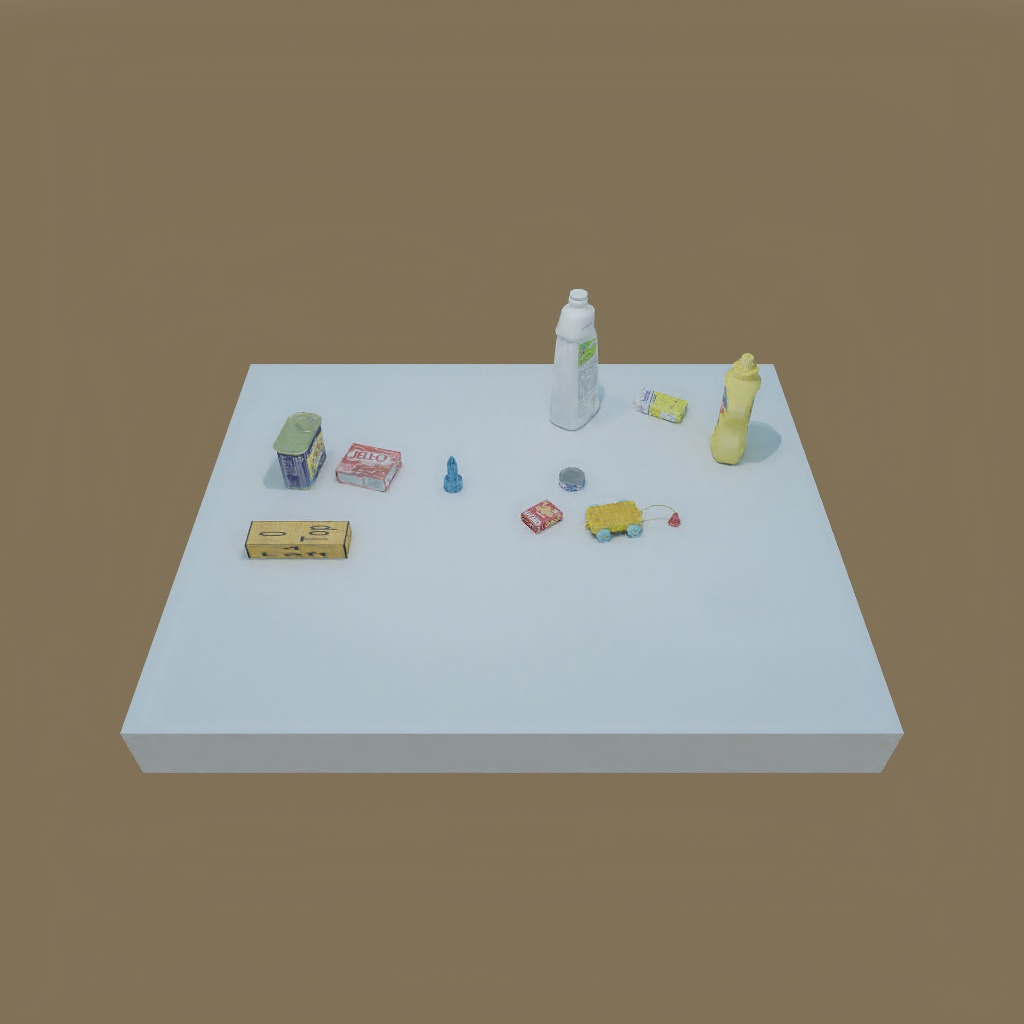gelatin_box: (336, 441, 403, 493)
jenga: (242, 514, 354, 563)
mustard_bottle: (711, 353, 763, 472)
potted_meat_can: (274, 407, 327, 490)
